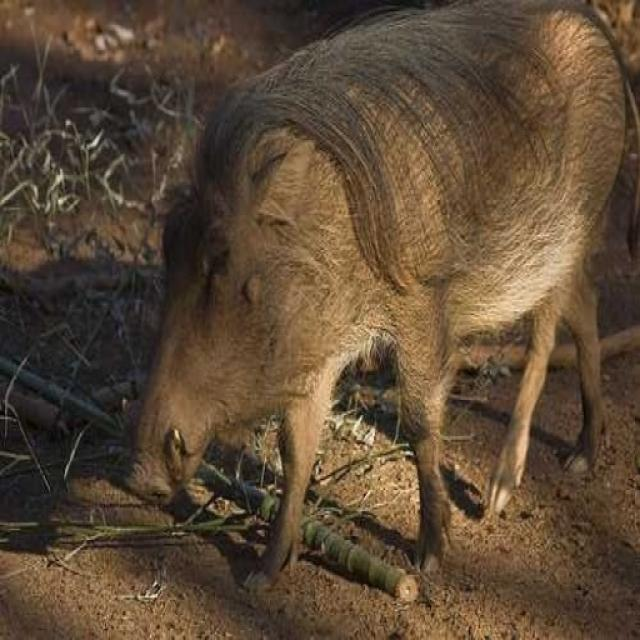pig: (106, 0, 640, 595)
